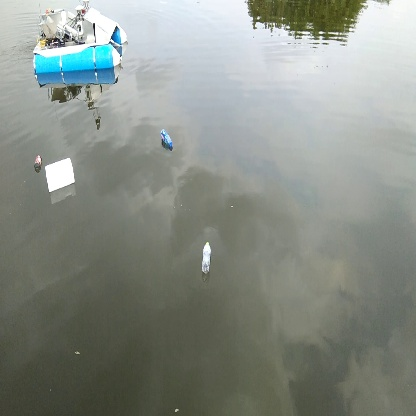bottle: (199, 238, 215, 274), (157, 127, 177, 150)
plastic-garbage: (44, 156, 78, 195)
